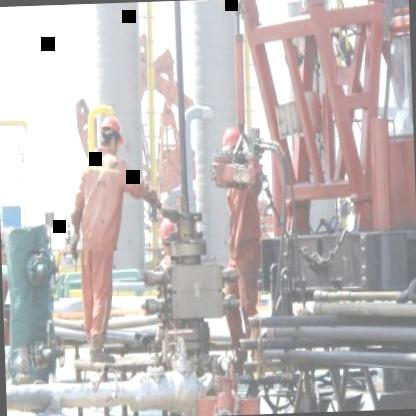helmet: (219, 124, 247, 174), (95, 107, 122, 155)
